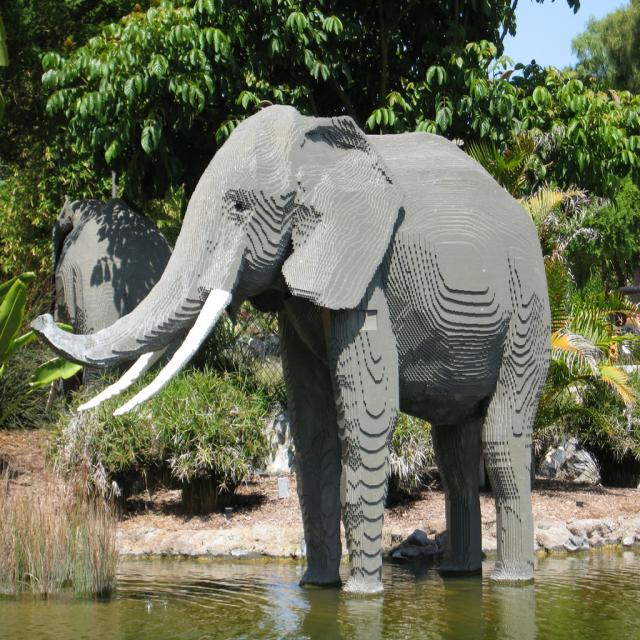elephant: (40, 108, 550, 578)
